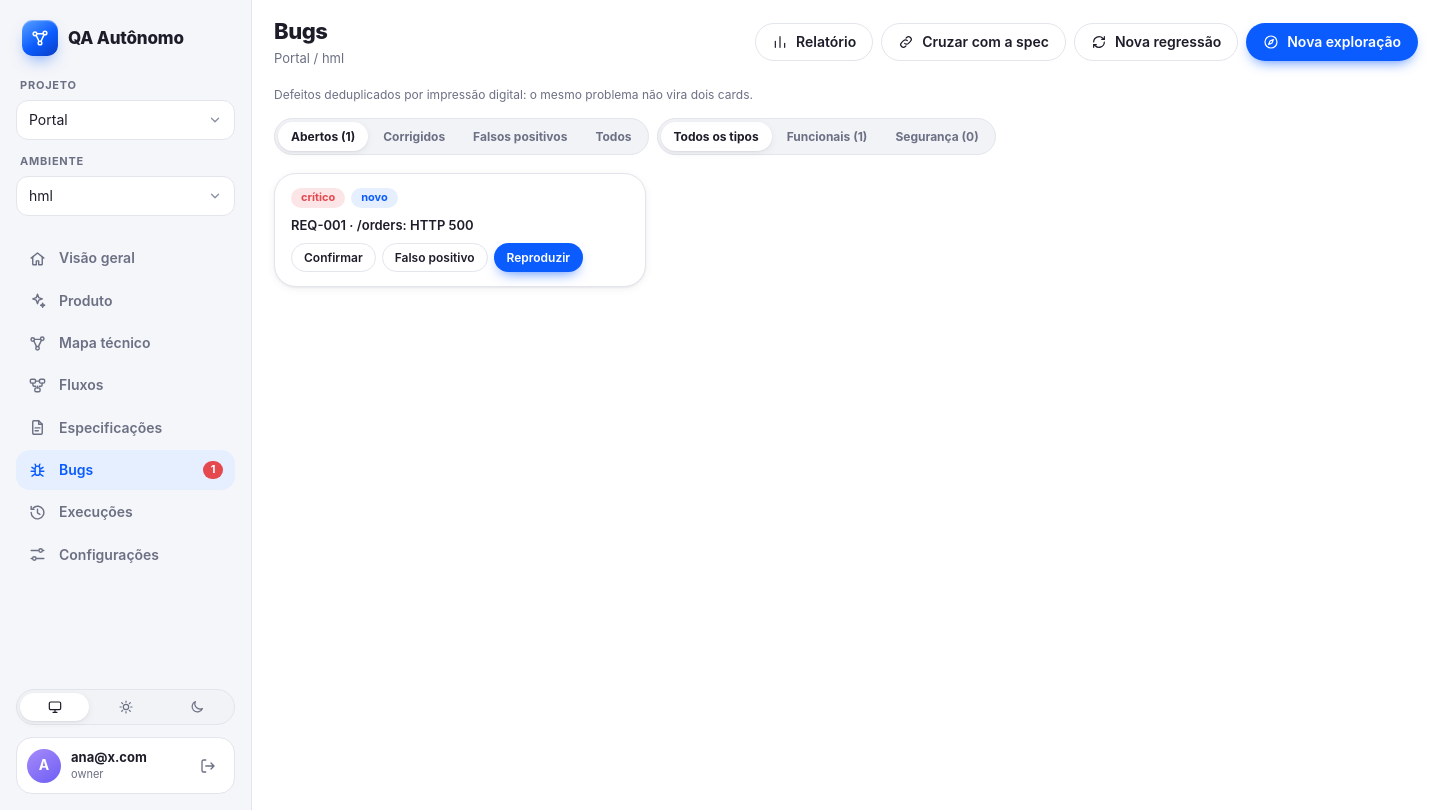
Test: relatório geral › não deixa pedir IA quando o servidor não tem modelo, e explica; o relatório padrão continua
The image size is (1440, 810).
Click the button "Relatório" at (814, 42), box [755,23,873,61]
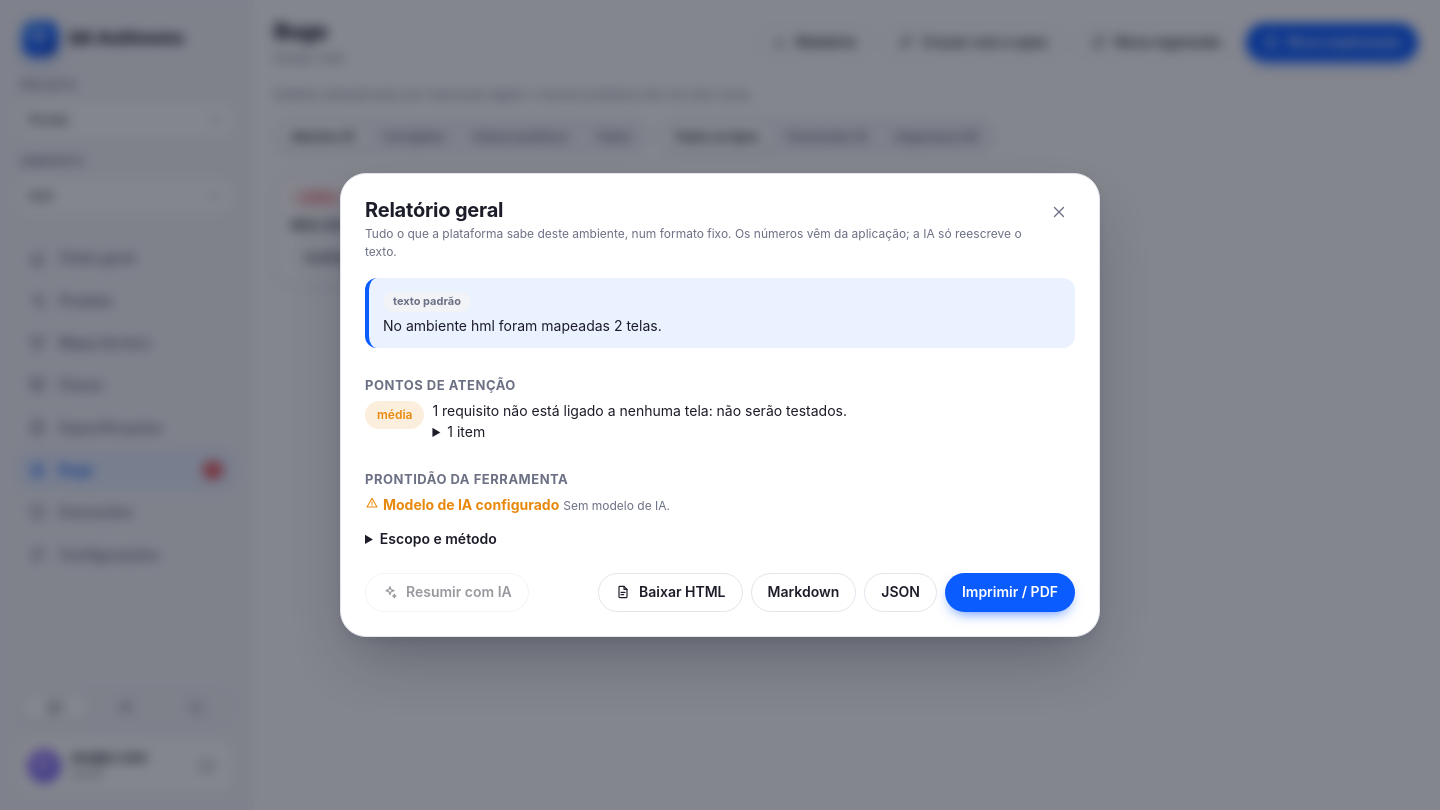
Check: the text "No ambiente hml foram mapeadas 2 telas." is shown, box [383,317,662,334]
Check: the button "Resumir com IA" is disabled, box [365,573,529,612]
Check: the button "Baixar HTML" is enabled, box [598,573,742,612]
